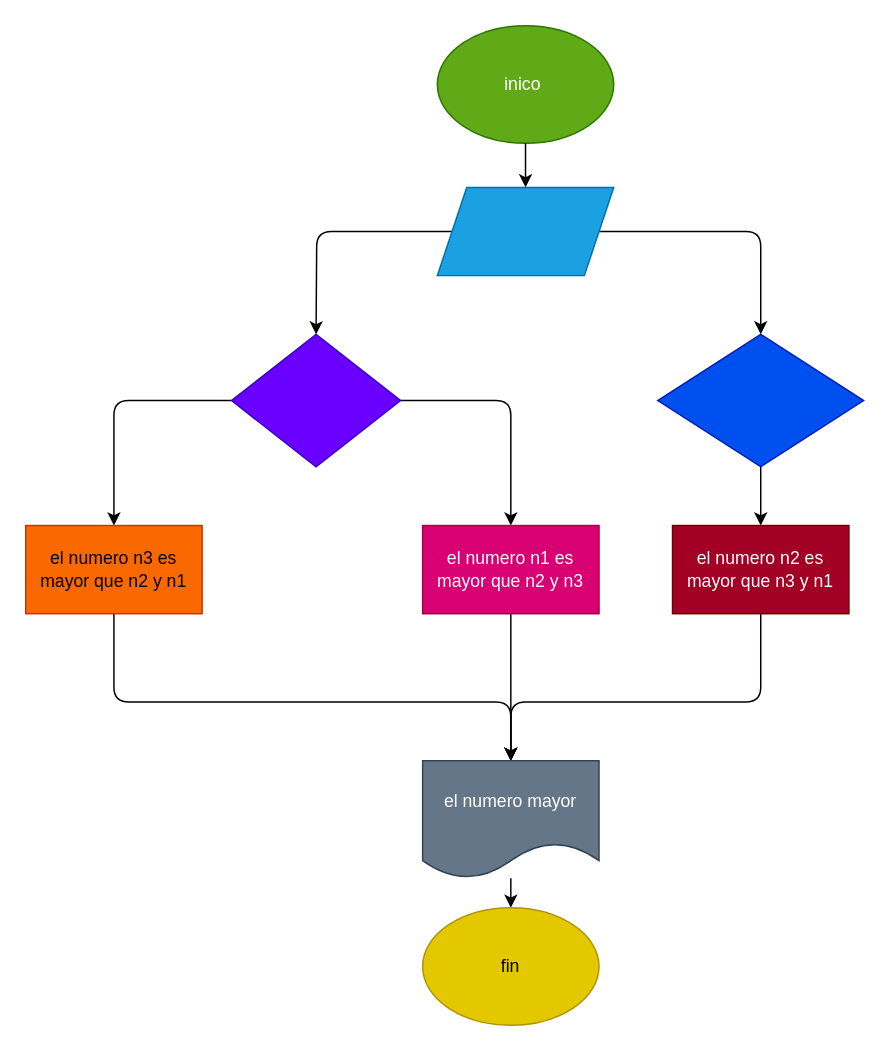
The diagram is 889 pixels wide and 1051 high, and some of its shapes have lost their labels. The box of each missing label's shape, as (x1, y1, x2, y2) in pixels:
n1 > n2 y n1> n3: (230, 333, 401, 467)
n1, n2, n3: (436, 186, 614, 276)
n2 > n1 y n2 > n3: (656, 333, 864, 467)
